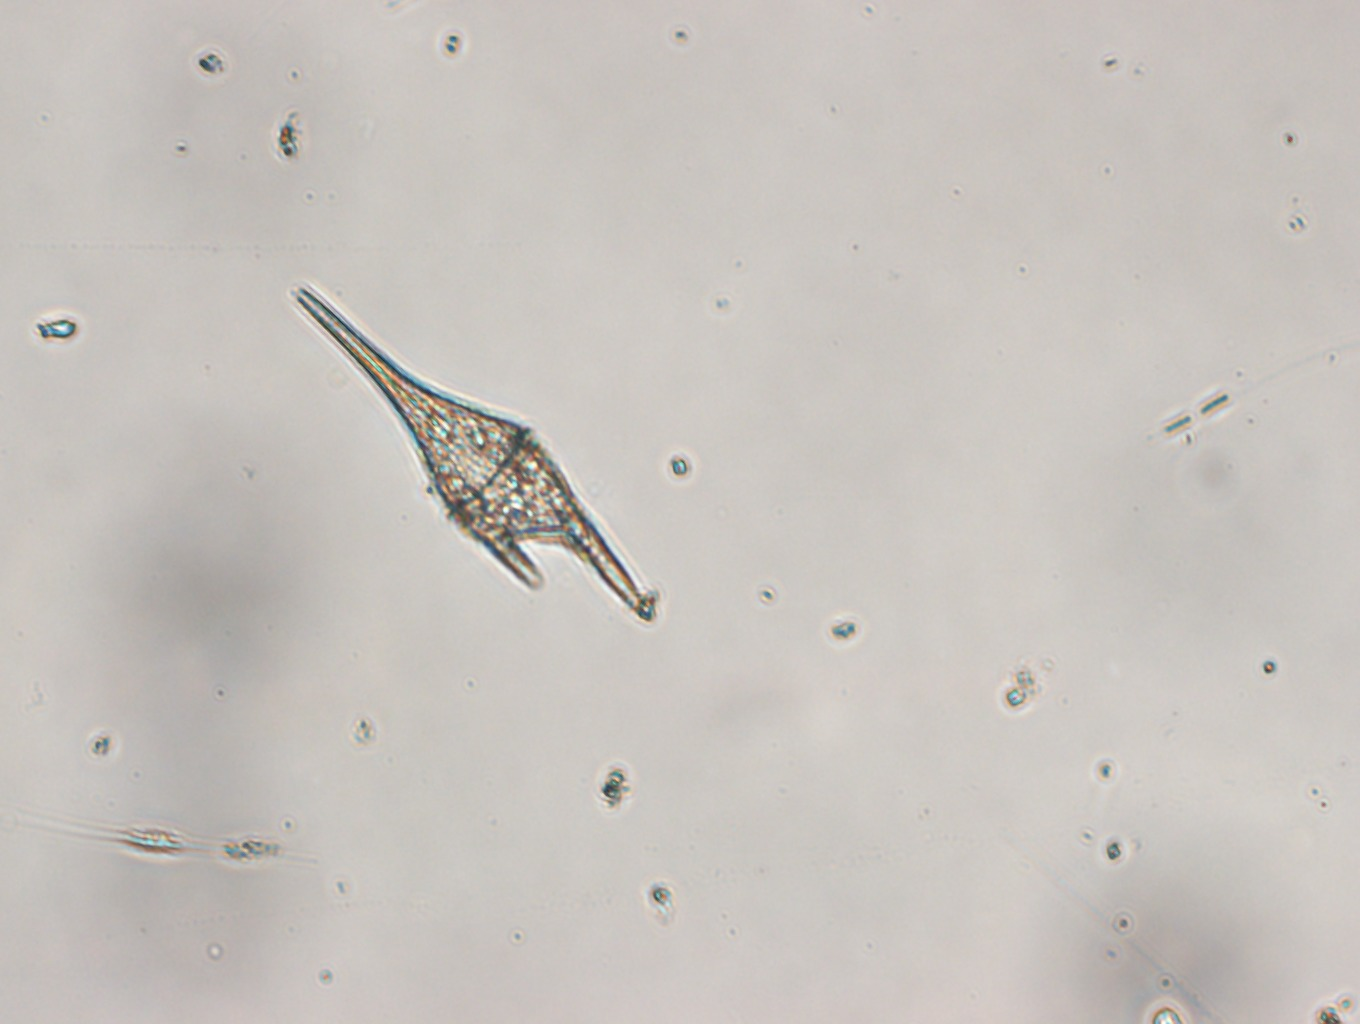ceratium furca: (291, 283, 665, 629)
